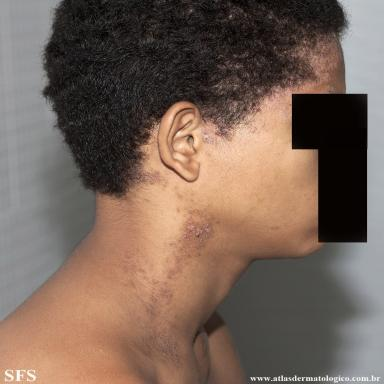Darier_s-Disease: (127, 203, 213, 364), (136, 169, 164, 184), (203, 130, 216, 144)
